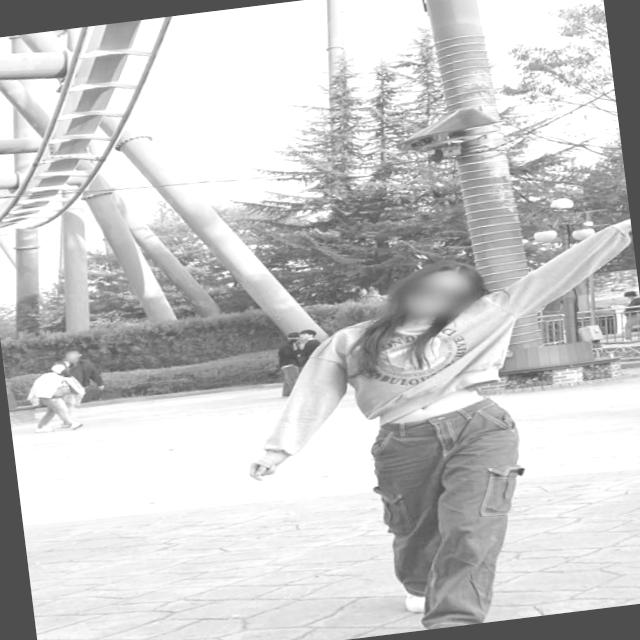denimpants: (368, 398, 544, 634)
mtm: (225, 222, 640, 478)
